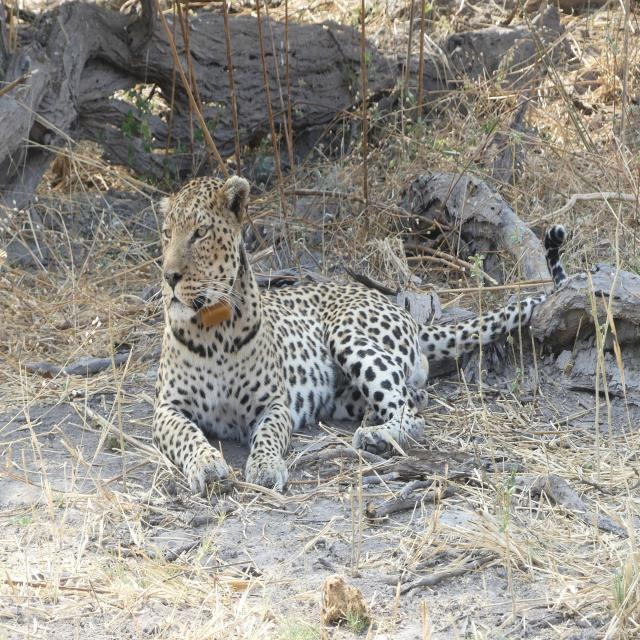Leopard: (134, 187, 601, 481)
